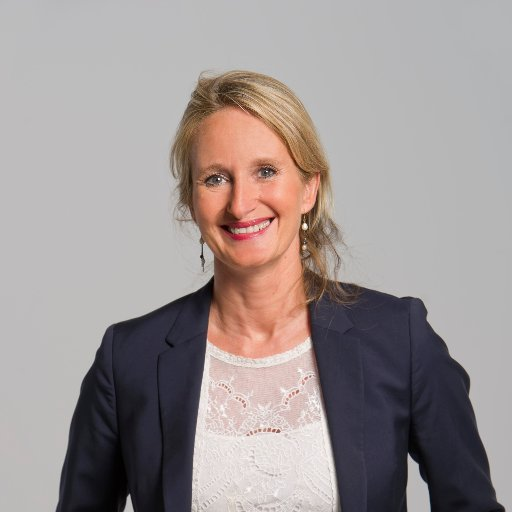without_mask: (202, 157, 288, 240)
